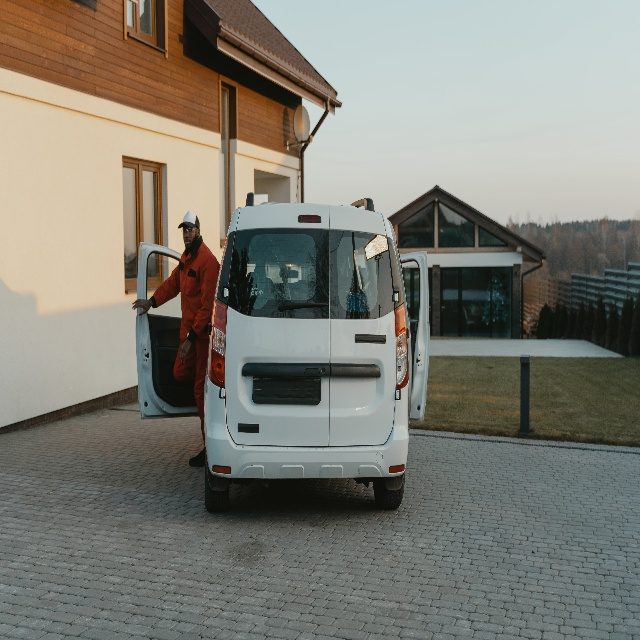Gafas: (180, 227, 199, 235)
Sin_guantes: (132, 296, 153, 316), (179, 339, 191, 364)
